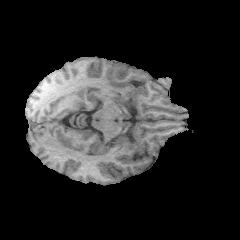glioma: (86, 59, 150, 102)
